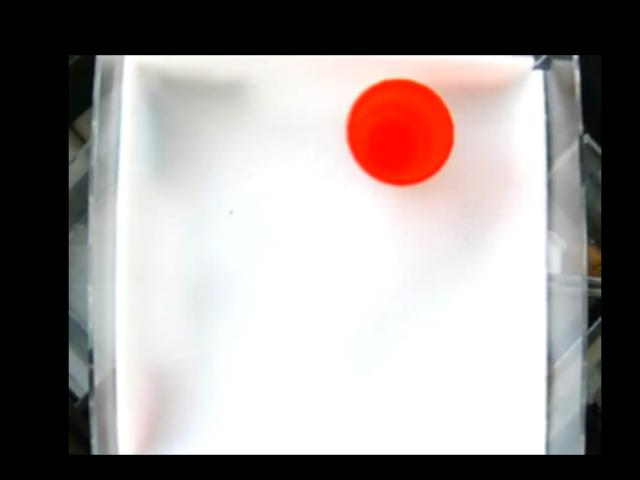Cup: (344, 77, 454, 190)
